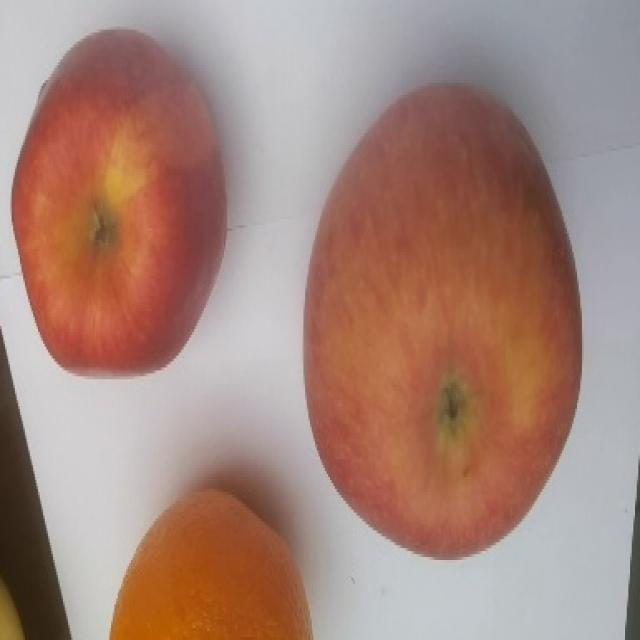Apple: (301, 80, 583, 560), (10, 26, 227, 378)
Orange: (108, 487, 313, 639)
